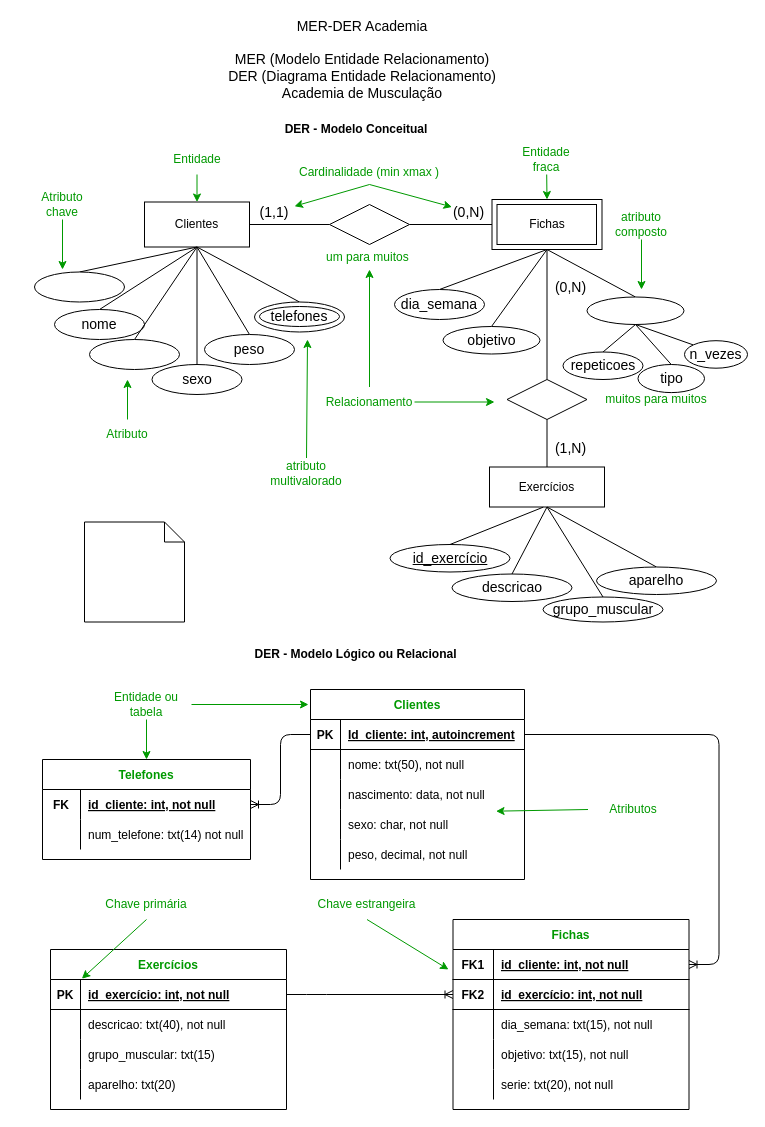
Some shapes in this 765 by 1127 pixel diagram are drawn without their labels. The centre of each missing label's shape, as x and y in pixels:
contem: the point at 546,399
id_cliente: the point at 79,286
nascimento: the point at 134,354
OBS : todas as informações na cor verde são comentários: the point at 134,571
series: the point at 635,310
treina: the point at 369,224
